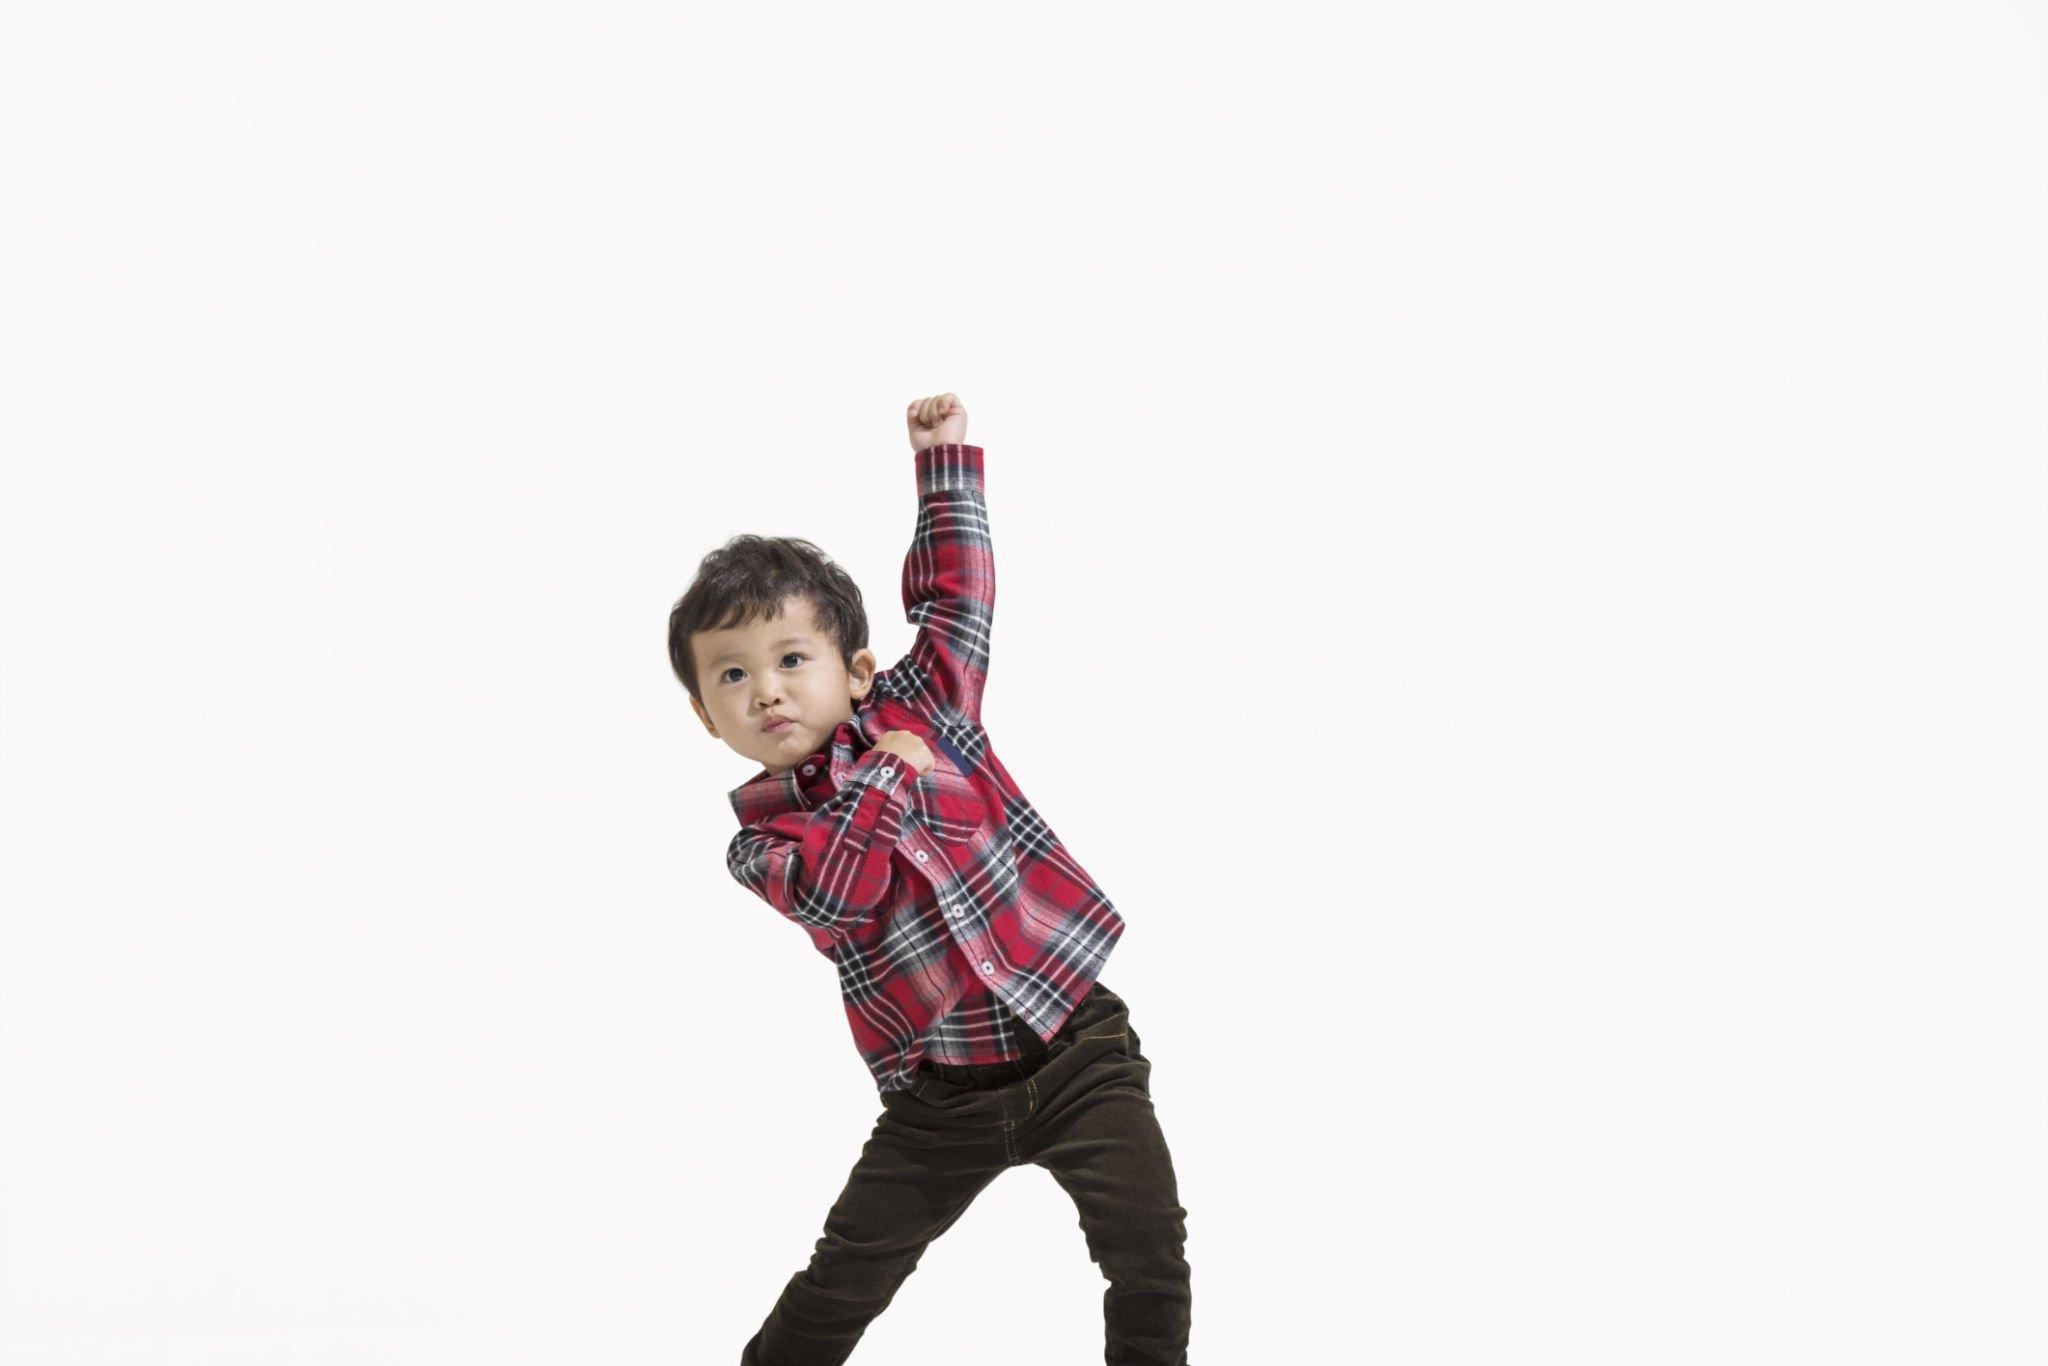Healthy: (646, 532, 876, 765)
